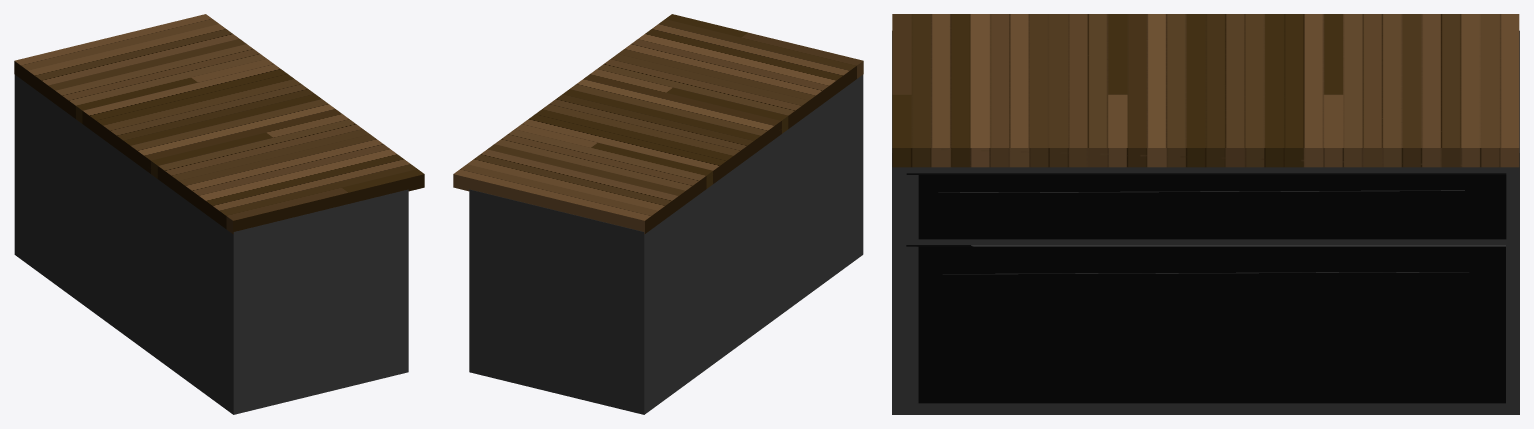
The model's file is Countertop.fbx.
The picture shows the model from 3 angles, left to right: view 1: azimuth 30°, elevation 25°; view 2: azimuth 150°, elevation 25°; view 3: azimuth 270°, elevation 25°; orthographic projection. The views are drawn at different scales.
Visible parts, largest first — view 1: Cube.001; view 2: Cube.001; view 3: Cube.001.
Part boxes in pixels (<box>): Cube.001: <box>14,14,424,414</box>; Cube.001: <box>453,14,863,414</box>; Cube.001: <box>892,14,1519,414</box>.
Size of the model in its own units: 259 by 251 by 512.
Materials: 1 (1 with a texture image).
